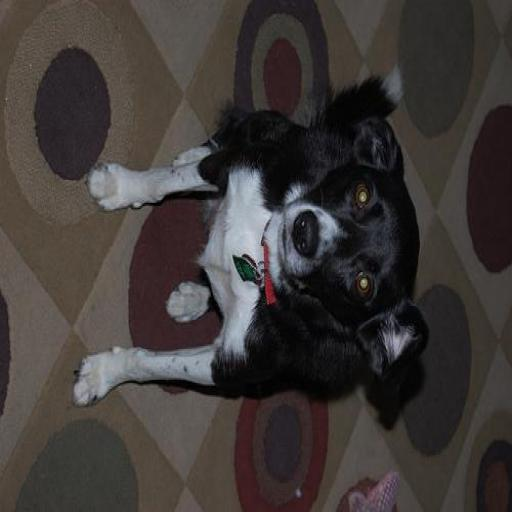dog_face: (267, 100, 439, 394)
